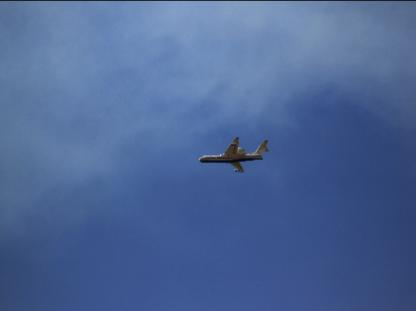B52: (200, 136, 270, 172)
